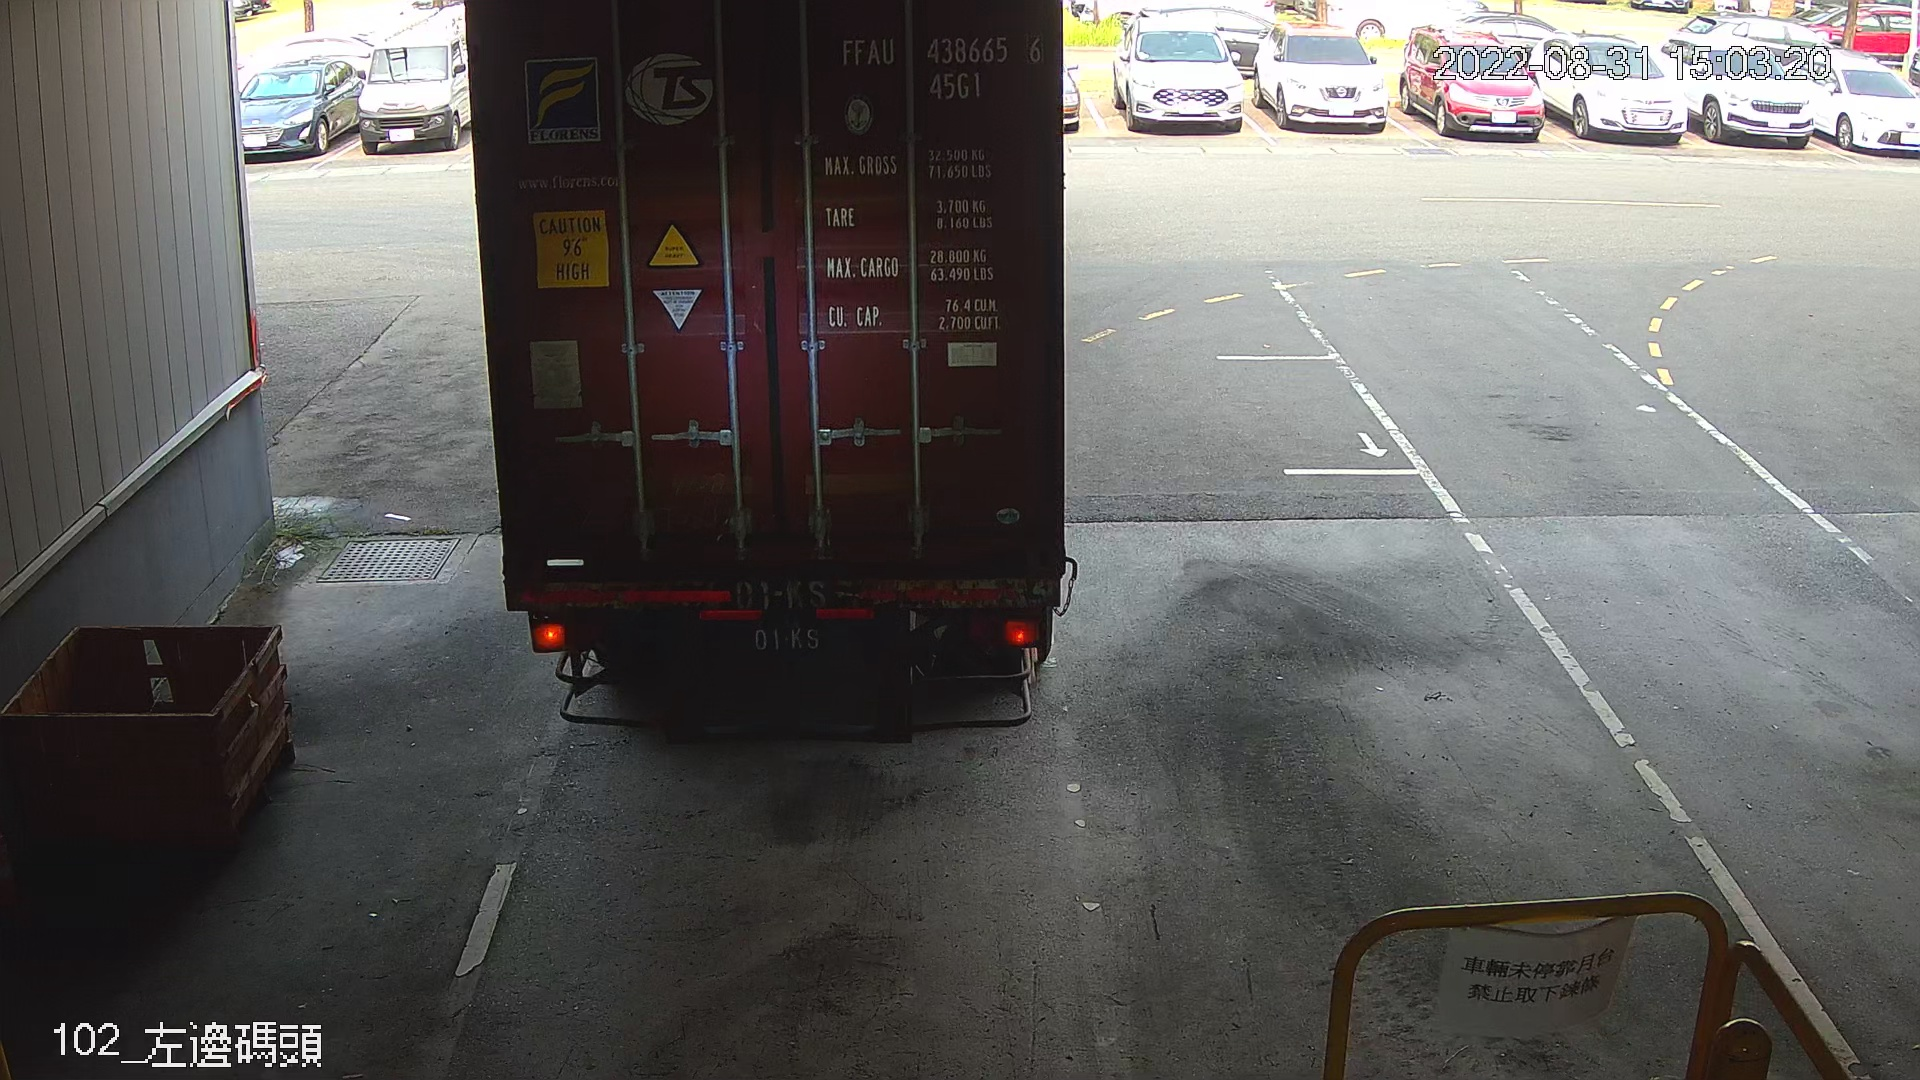container: (835, 26, 1051, 105)
